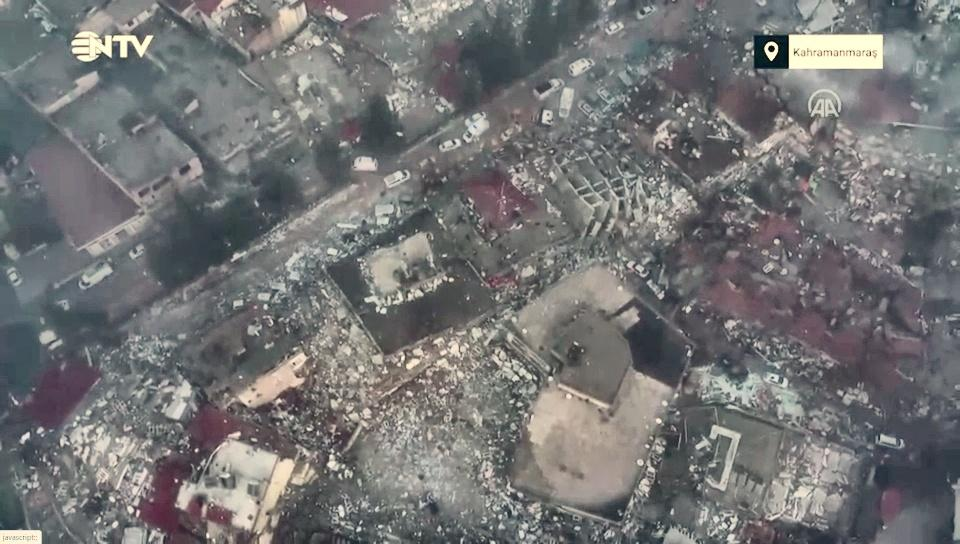kapali: (0, 292, 199, 461), (188, 170, 406, 321)
